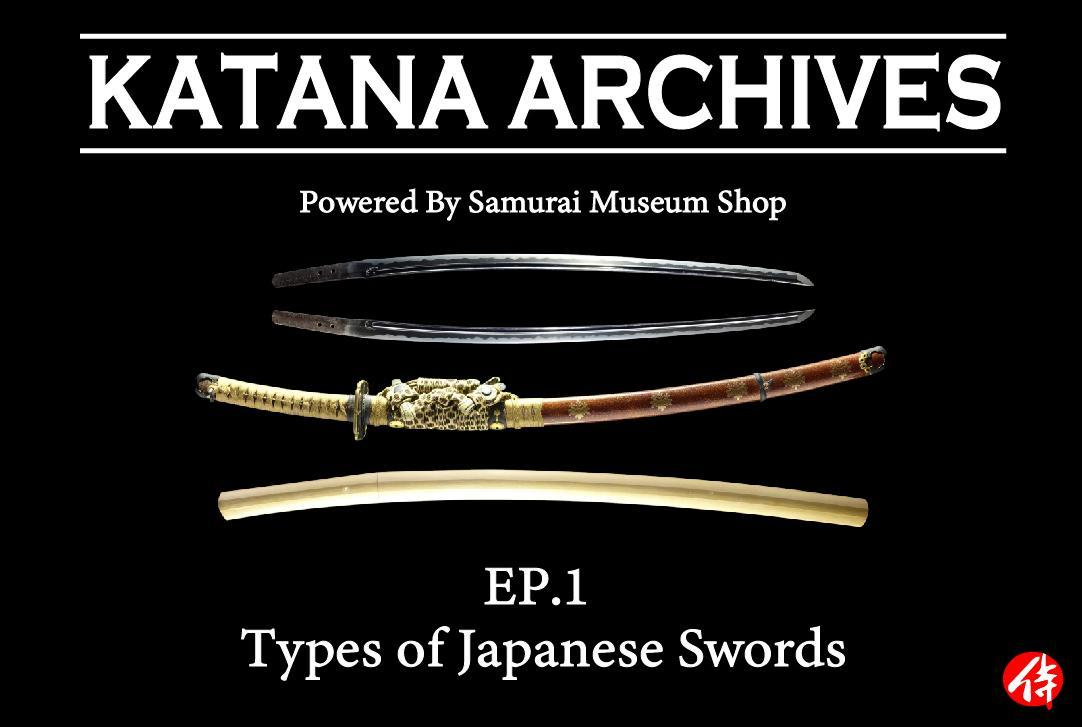espada: (183, 347, 916, 441), (259, 236, 835, 300), (254, 302, 830, 346)
